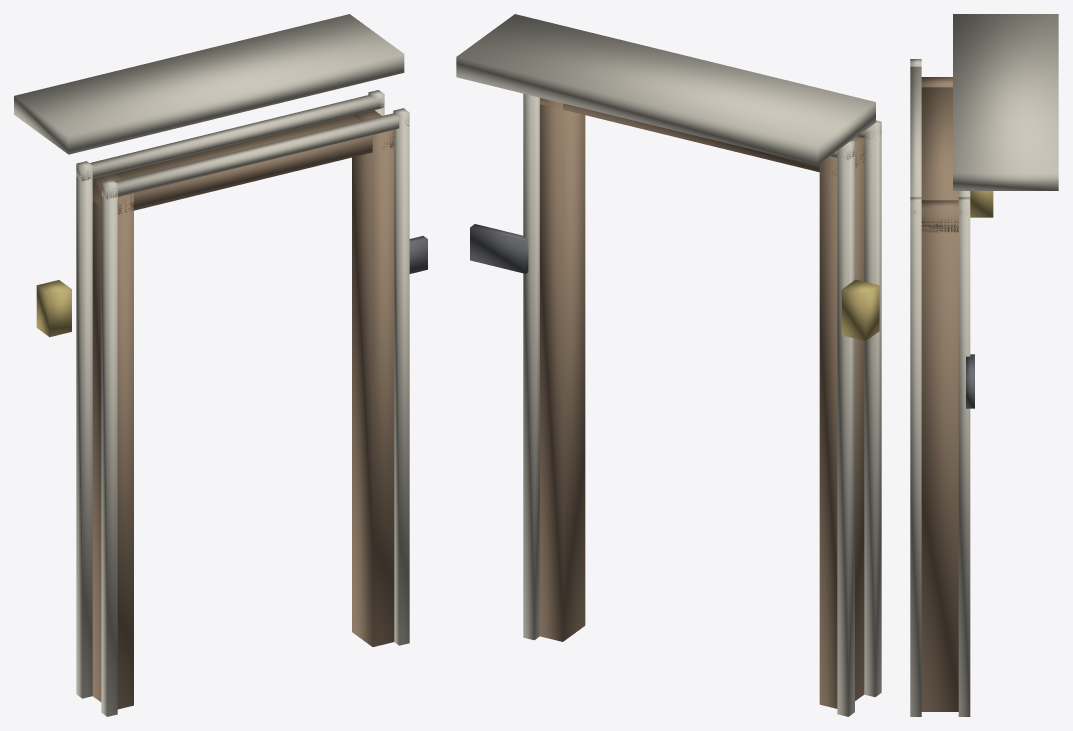
The model's file is doorway_motel_w106_h210_d16.glb.
The picture shows the model from 3 angles, left to right: view 1: azimuth 30°, elevation 25°; view 2: azimuth 150°, elevation 25°; view 3: azimuth 270°, elevation 25°; orthographic projection. The views are drawn at different scales.
Parts seen in each view (by area): view 1: world; view 2: world; view 3: world.
Part boxes in pixels (box(x1,y1,x2,y2)): world: box(14, 14, 427, 716); world: box(456, 14, 881, 716); world: box(910, 14, 1058, 716).
Size of the model in its own units: 1.68 by 2.42 by 0.5889.
